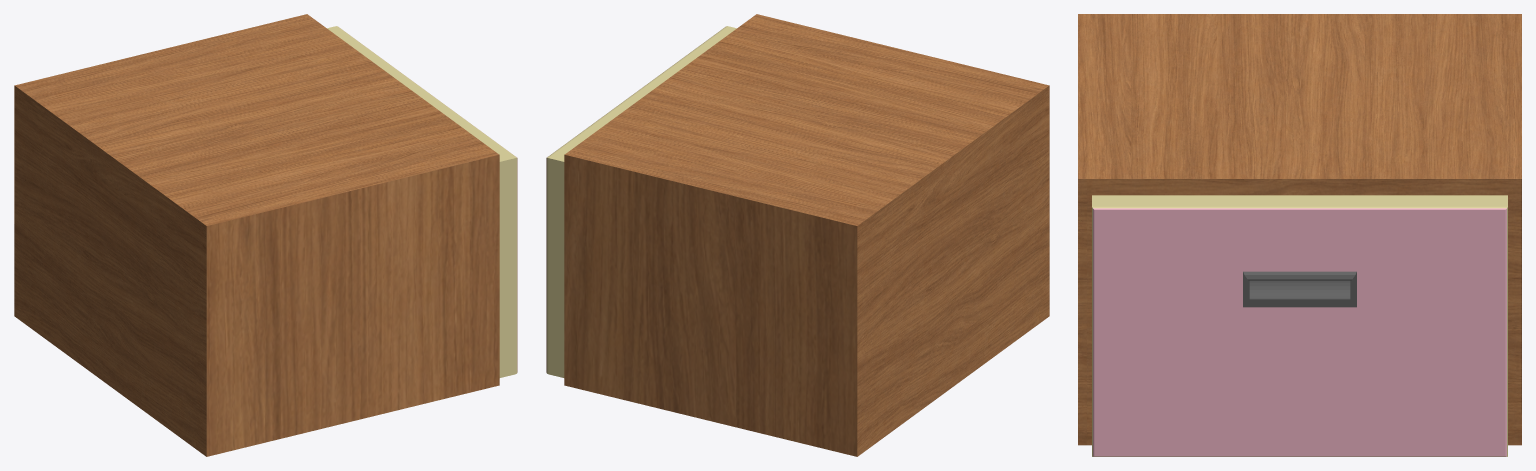
Rendered from DrawerCabinet2.fbx.
3 renders of one model, left to right at view 1: azimuth 30°, elevation 25°; view 2: azimuth 150°, elevation 25°; view 3: azimuth 270°, elevation 25°, orthographic. The views are drawn at different scales.
Parts seen in each view (by area): view 1: DrawerBody.001, Drawer.001; view 2: DrawerBody.001, Drawer.001; view 3: Drawer.001, DrawerBody.001.
Part boxes in pixels (bbox=[...]): DrawerBody.001: bbox=[14, 14, 499, 456]; Drawer.001: bbox=[327, 26, 517, 377]; DrawerBody.001: bbox=[564, 14, 1049, 456]; Drawer.001: bbox=[546, 26, 736, 377]; Drawer.001: bbox=[1092, 195, 1507, 456]; DrawerBody.001: bbox=[1078, 14, 1521, 445].
Size of the model in its own units: 117 by 80.32 by 121.
6 materials, 2 textured.
